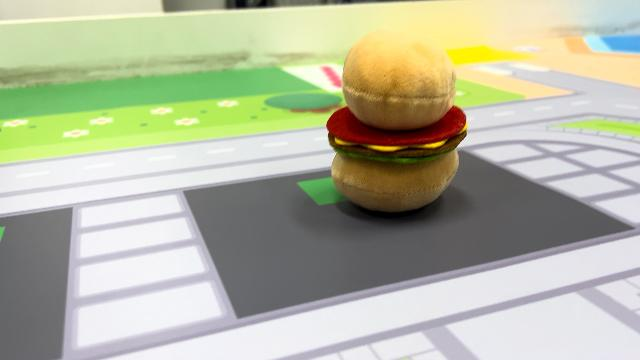burger: (322, 27, 472, 216)
